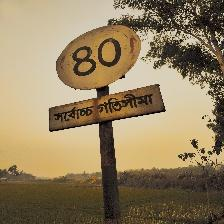Speed-limit: (50, 22, 163, 132)
